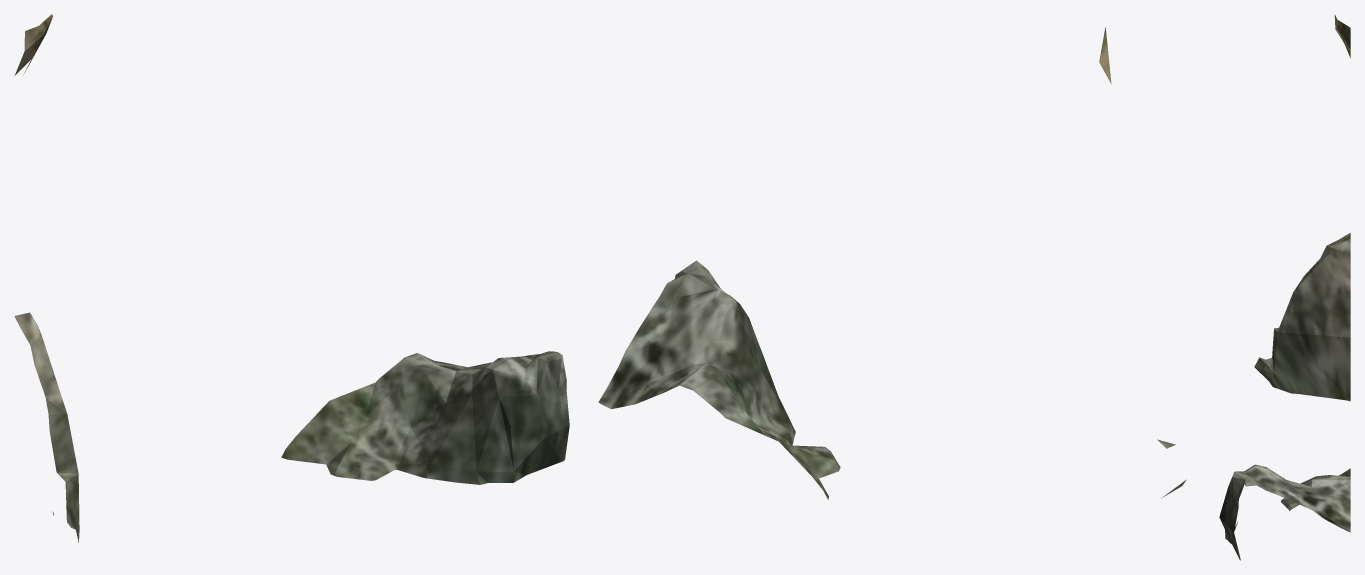
The picture shows the model from 3 angles, left to right: view 1: azimuth 30°, elevation 25°; view 2: azimuth 150°, elevation 25°; view 3: azimuth 270°, elevation 25°; orthographic projection. The views are drawn at different scales.
Size of the model in its own units: 2.95 by 2.95 by 0.941.
Materials: 1 (1 with a texture image).
